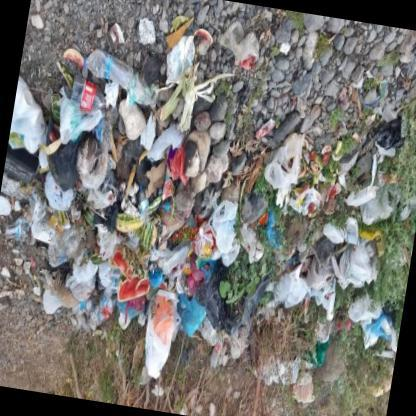Garbage: (21, 58, 267, 328), (102, 196, 253, 341), (48, 48, 124, 195), (149, 13, 229, 135), (40, 191, 109, 307), (92, 216, 156, 315), (199, 212, 262, 291), (6, 62, 53, 160), (276, 259, 341, 319), (288, 130, 344, 194), (258, 347, 314, 409), (43, 140, 94, 198), (334, 242, 377, 307), (154, 146, 192, 219), (140, 292, 178, 365), (135, 201, 174, 265), (373, 114, 414, 164), (354, 298, 392, 349), (164, 0, 192, 55), (56, 32, 90, 71), (353, 227, 384, 263), (293, 350, 330, 372), (7, 214, 36, 242)
